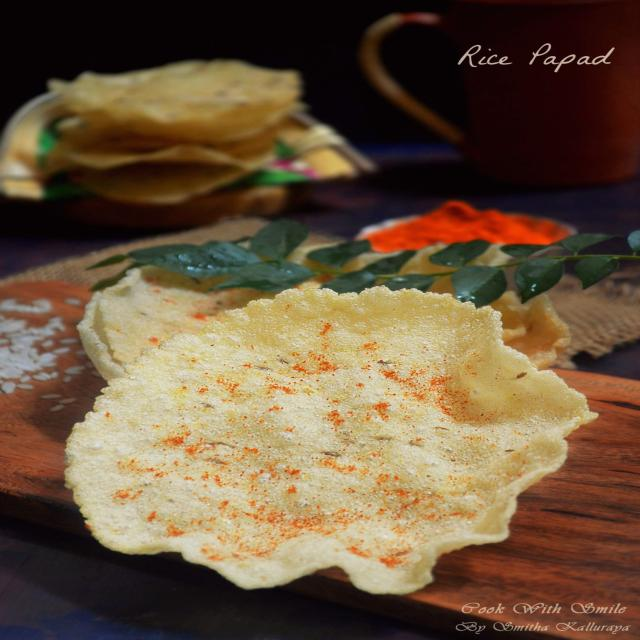papad: (55, 277, 603, 594), (50, 62, 296, 212), (84, 257, 250, 373)
